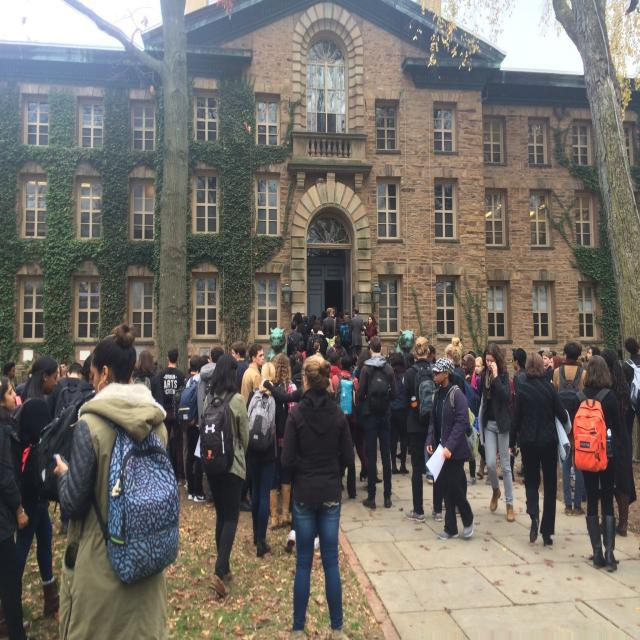body: (52, 317, 181, 640), (279, 352, 358, 640), (259, 351, 336, 554), (11, 353, 61, 632), (198, 351, 251, 600), (507, 350, 572, 549), (424, 354, 482, 542), (572, 354, 622, 572), (244, 361, 286, 558), (353, 334, 399, 510), (402, 336, 443, 524), (0, 376, 29, 638), (599, 346, 637, 536), (477, 341, 516, 524), (444, 336, 479, 516), (552, 341, 588, 516), (266, 352, 298, 532), (238, 343, 266, 512), (196, 346, 225, 507), (155, 346, 187, 486), (497, 346, 529, 483), (171, 355, 201, 492), (186, 354, 211, 503), (286, 310, 328, 389), (45, 361, 89, 427), (461, 353, 482, 486), (536, 344, 602, 386), (389, 352, 410, 476), (332, 355, 360, 446), (620, 336, 639, 470), (43, 361, 84, 422), (132, 349, 164, 409), (353, 348, 375, 428), (328, 347, 359, 403), (380, 350, 419, 390), (465, 347, 487, 401), (230, 340, 250, 394), (567, 464, 591, 504), (515, 458, 544, 488), (324, 333, 349, 364), (322, 307, 337, 358), (335, 312, 352, 357), (349, 307, 363, 358), (330, 307, 356, 333), (286, 320, 304, 357), (306, 323, 324, 358), (15, 362, 34, 395), (363, 314, 380, 350), (504, 371, 517, 418), (476, 432, 488, 482), (323, 325, 337, 358), (3, 361, 17, 392), (395, 443, 414, 462), (55, 359, 70, 383), (611, 342, 625, 363), (426, 344, 436, 367), (130, 358, 140, 379), (268, 352, 278, 365), (185, 354, 192, 370), (152, 358, 158, 374), (636, 343, 640, 360), (0, 379, 3, 390)
